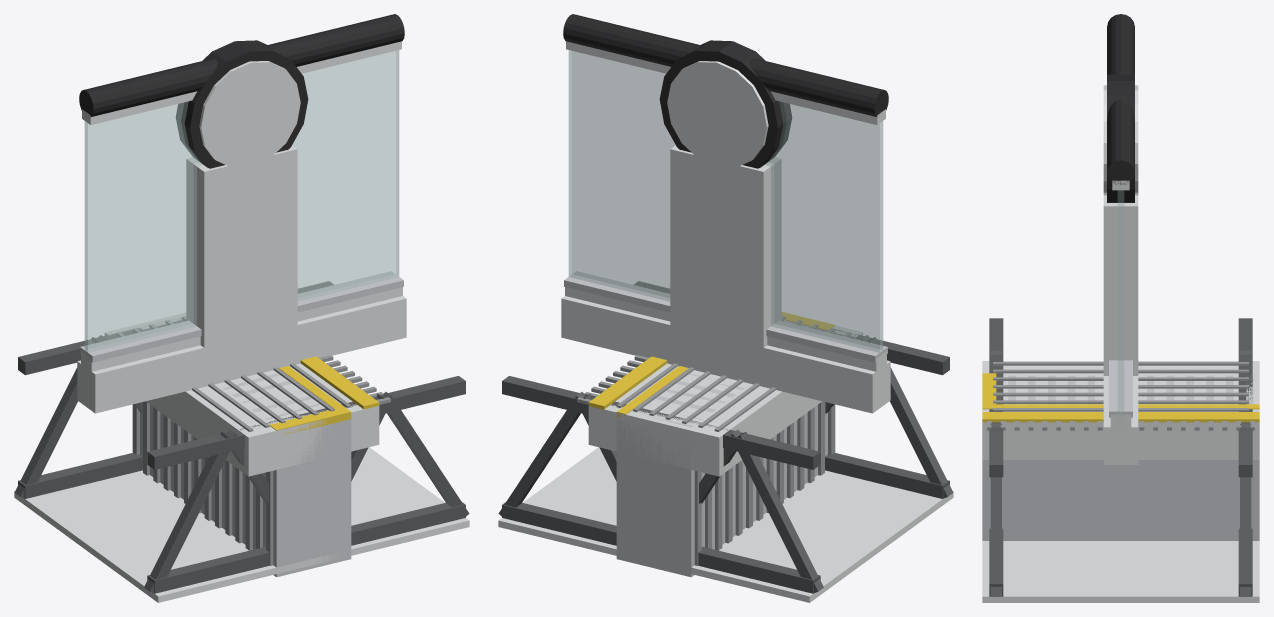
The model's file is escalator.glb.
3 views of the same model, side by side, from view 1: azimuth 30°, elevation 25°; view 2: azimuth 150°, elevation 25°; view 3: azimuth 270°, elevation 25° (orthographic). The views are drawn at different scales.
Visible parts, largest first — view 1: Balustrade, Truss, Newel, Step, Landing, Kerb; view 2: Balustrade, Truss, Newel, Step, Landing, Kerb; view 3: Step, Truss, Landing, Newel, Balustrade, Kerb.
Part boxes in pixels (x1=…): Balustrade: x1=77, y1=14, x2=406, y2=413; Truss: x1=14, y1=281, x2=469, y2=602; Newel: x1=176, y1=40, x2=308, y2=377; Step: x1=132, y1=317, x2=351, y2=577; Landing: x1=105, y1=313, x2=390, y2=476; Kerb: x1=80, y1=271, x2=403, y2=404; Balustrade: x1=561, y1=14, x2=890, y2=413; Truss: x1=498, y1=281, x2=953, y2=602; Newel: x1=659, y1=40, x2=791, y2=355; Step: x1=616, y1=312, x2=835, y2=577; Landing: x1=577, y1=316, x2=862, y2=476; Kerb: x1=564, y1=271, x2=887, y2=410; Step: x1=982, y1=373, x2=1259, y2=540; Truss: x1=982, y1=318, x2=1259, y2=602; Landing: x1=982, y1=361, x2=1259, y2=459; Newel: x1=1103, y1=74, x2=1138, y2=375; Balustrade: x1=1103, y1=14, x2=1138, y2=464; Kerb: x1=1109, y1=360, x2=1132, y2=464.
Size of the model in its own units: 1.03 by 1.44 by 0.8.
